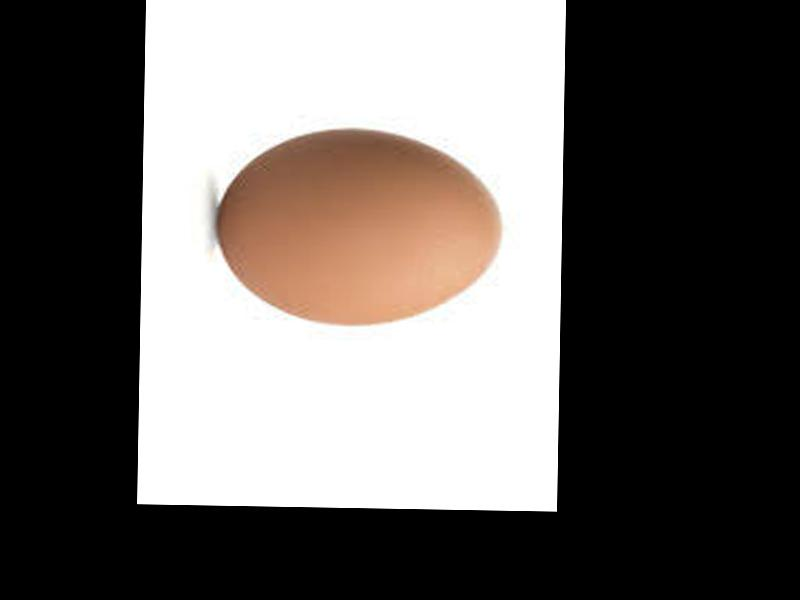Eggs: (213, 127, 500, 325)
